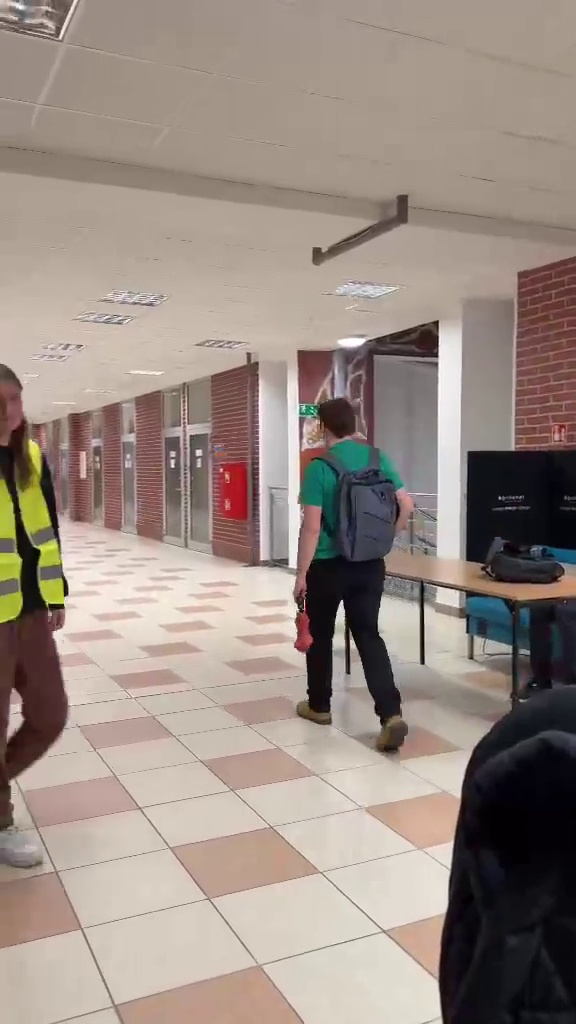no vest: (281, 391, 412, 749)
vest: (0, 356, 71, 872)
